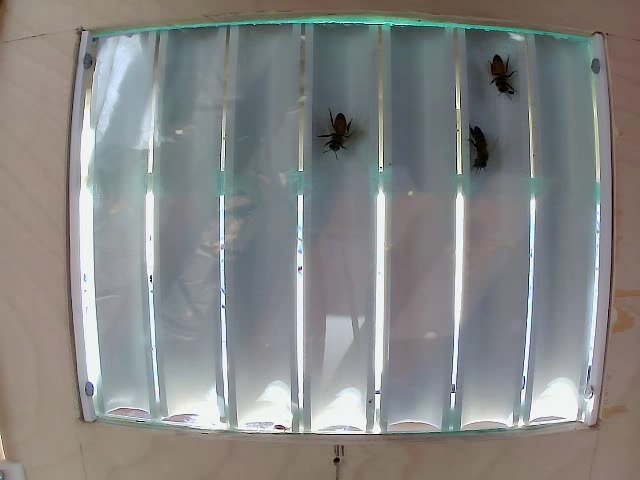bee: (311, 106, 373, 169), (479, 58, 515, 110), (468, 120, 498, 179)
